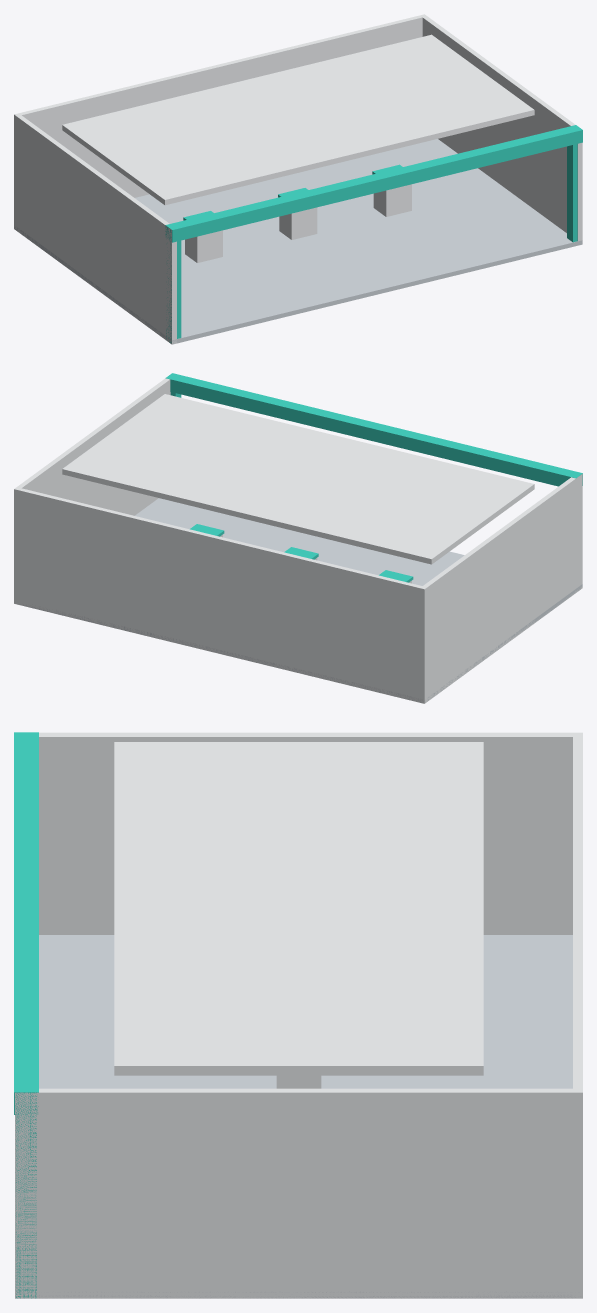
The picture shows the model from 3 angles, top to bottom: view 1: azimuth 30°, elevation 25°; view 2: azimuth 150°, elevation 25°; view 3: azimuth 270°, elevation 25°; orthographic projection. The views are drawn at different scales.
Parts seen in each view (by area): view 1: Exhibition Booth Concept; view 2: Exhibition Booth Concept; view 3: Exhibition Booth Concept.
Part boxes in pixels (left/top/right/bottom): Exhibition Booth Concept: left=14, top=14, right=582, bottom=344; Exhibition Booth Concept: left=14, top=373, right=582, bottom=703; Exhibition Booth Concept: left=14, top=732, right=582, bottom=1298.
Size of the model in its own units: 12 by 3.34 by 8.01.
